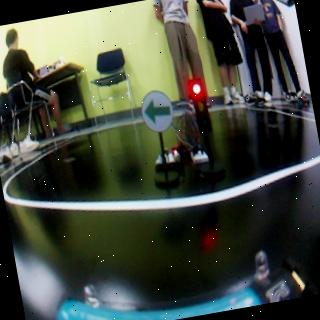left: (140, 94, 176, 134)
red: (188, 78, 225, 180)
